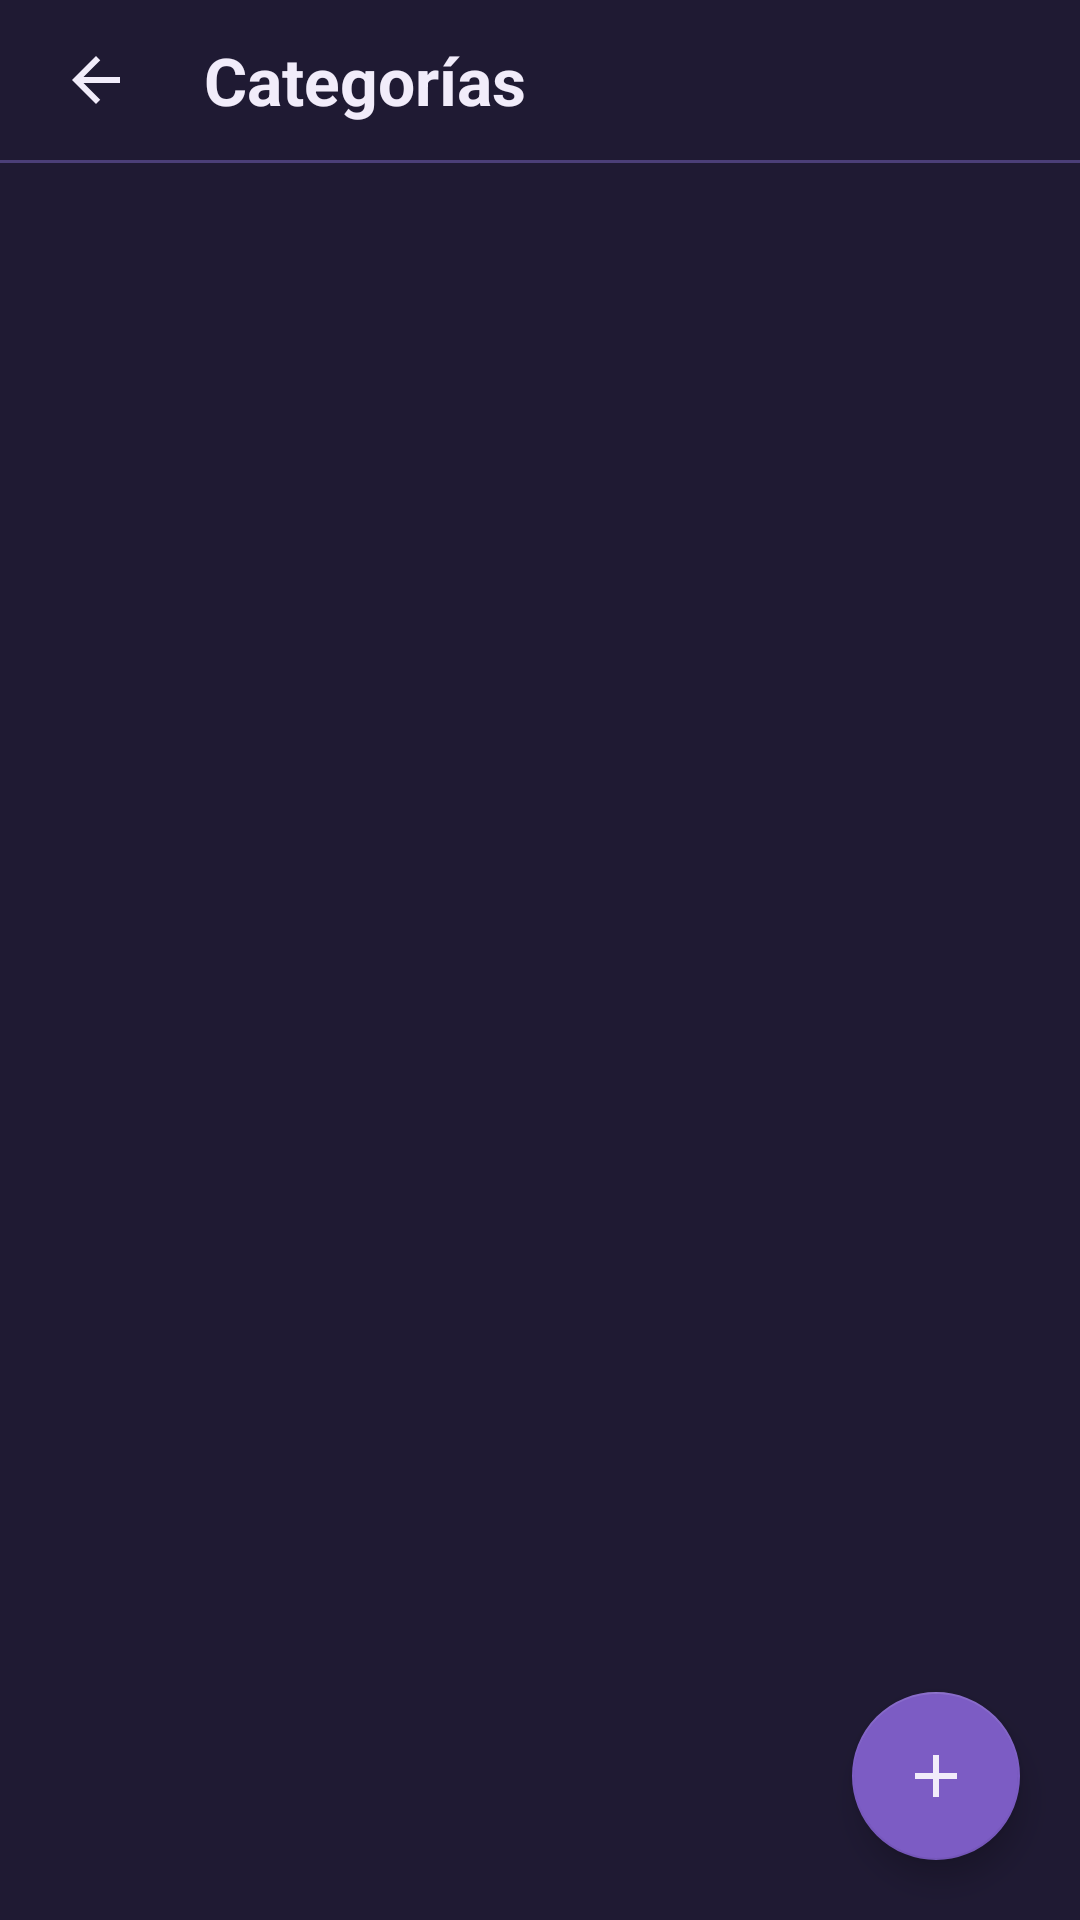

Locate icon controls on the screen. Image size 1080w x 1920h, boxes as {"left": x1, "top": y1, "right": x2, "bottom": y2}.
Nueva categoría: {"left": 852, "top": 1692, "right": 1020, "bottom": 1860}
Volver: {"left": 72, "top": 56, "right": 120, "bottom": 104}
